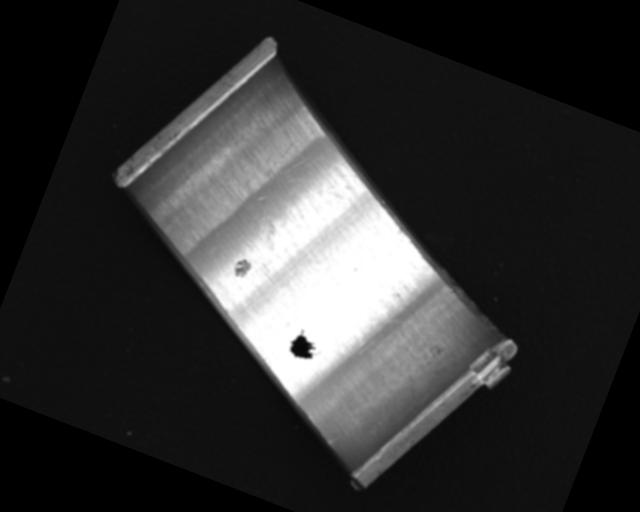blot: (285, 327, 328, 366)
bruise: (230, 254, 255, 282)
nick: (326, 432, 341, 449)
